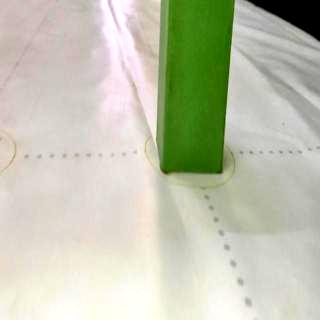greenbox: (156, 0, 234, 175)
